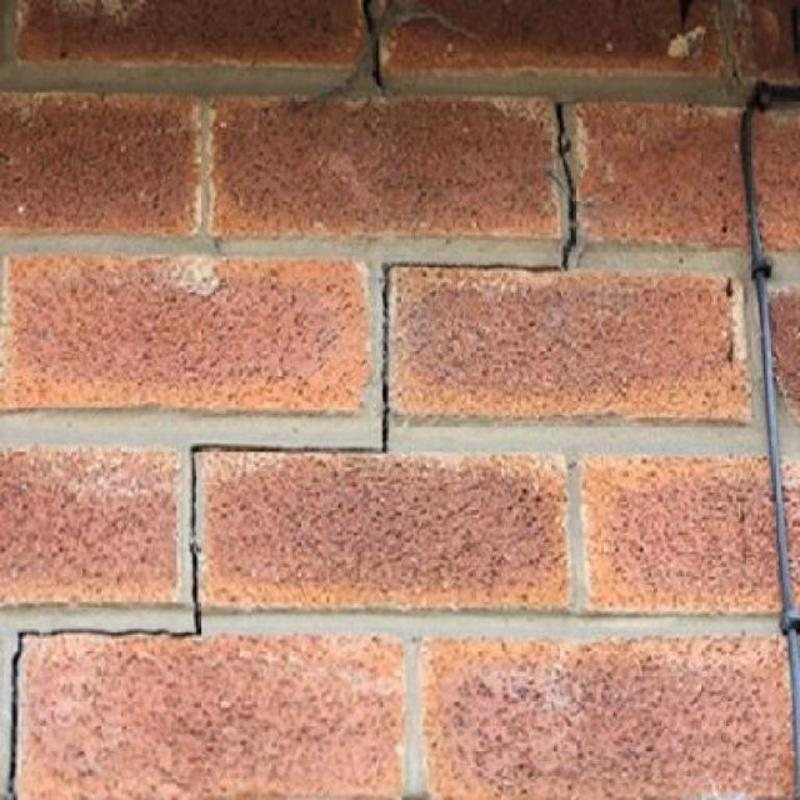pothole: (5, 99, 578, 800), (362, 0, 385, 92)
